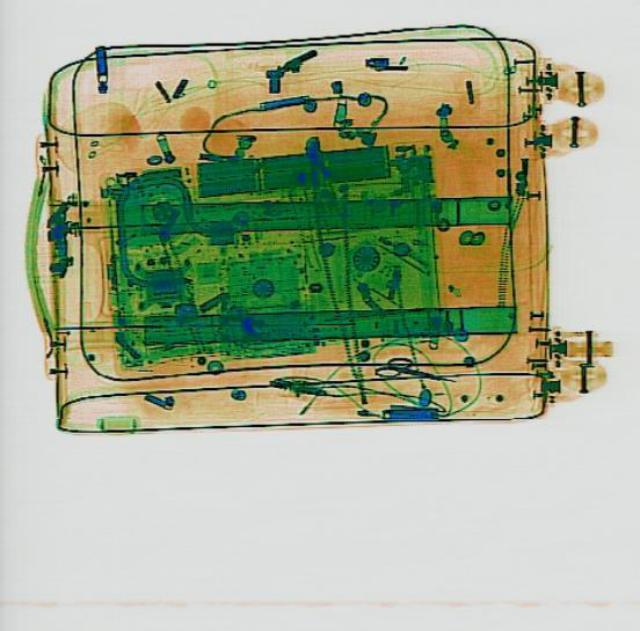Scissors: (374, 349, 456, 393)
